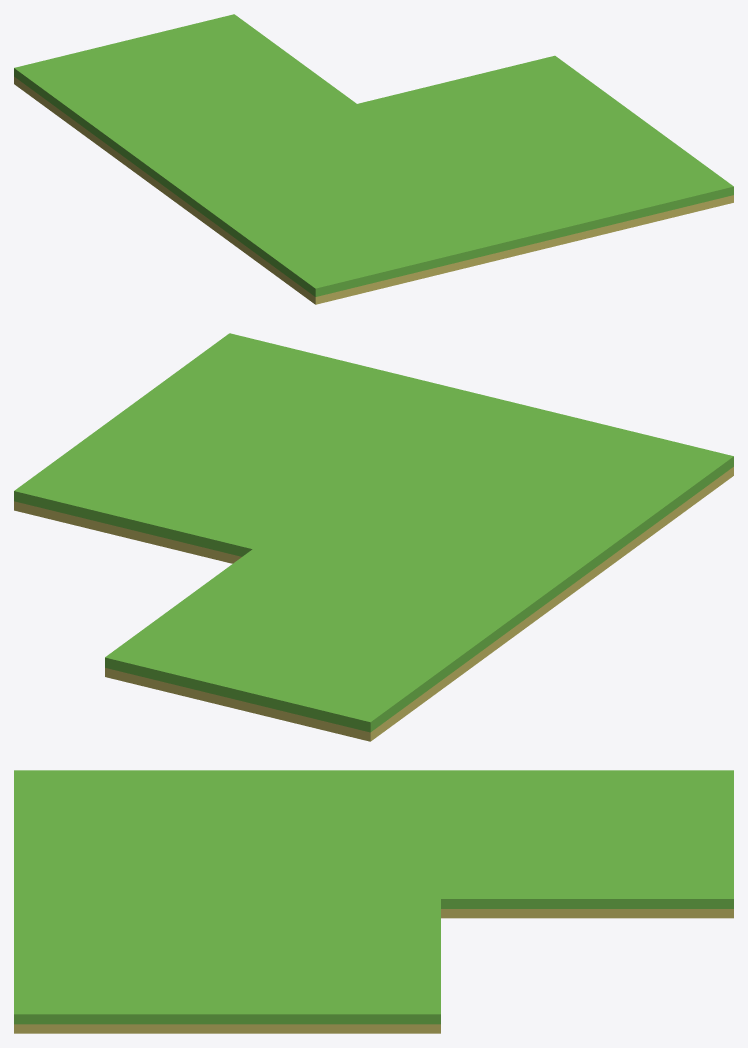
Rendered from Grama Terreno 1.fbx.
3 views of the same model, one above another, from view 1: azimuth 30°, elevation 25°; view 2: azimuth 150°, elevation 25°; view 3: azimuth 270°, elevation 25° (orthographic). The views are drawn at different scales.
Parts seen in each view (by area): view 1: Terreninho 1; view 2: Terreninho 1; view 3: Terreninho 1.
Boxes of the visible parts, <box> form: Terreninho 1: <box>14,14,733,304</box>; Terreninho 1: <box>14,333,733,741</box>; Terreninho 1: <box>14,770,733,1033</box>.
Bounding box in the file's own units: 490 × 18.09 × 611.
